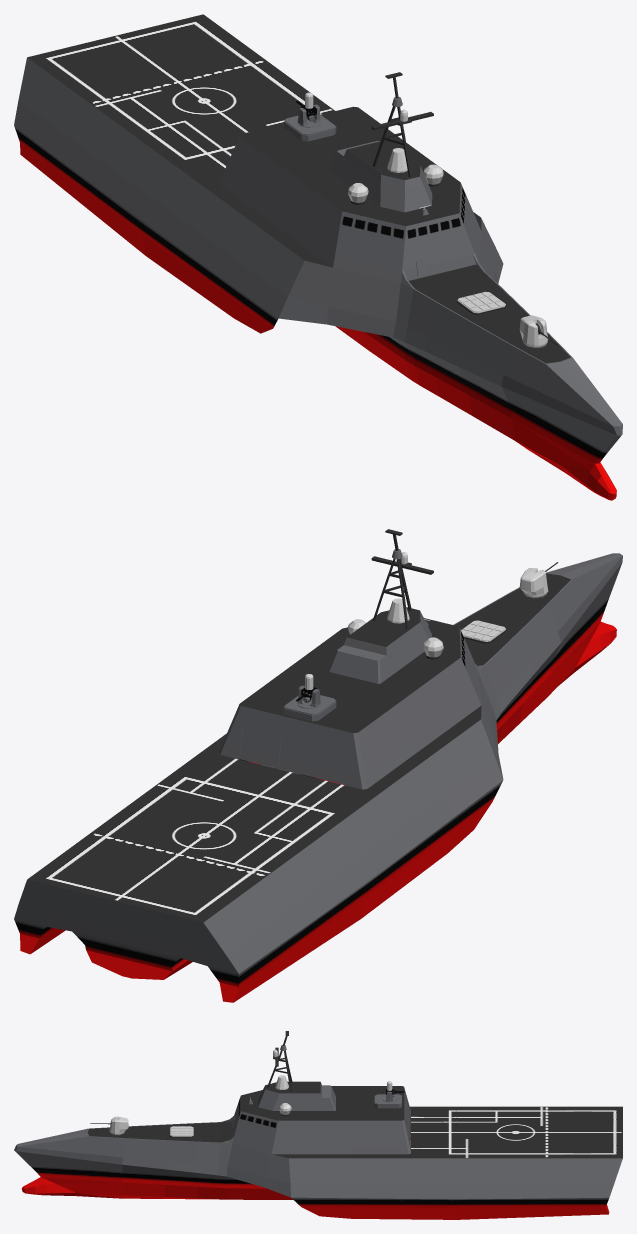
3 renders of one model, top to bottom at view 1: azimuth 30°, elevation 25°; view 2: azimuth 150°, elevation 25°; view 3: azimuth 270°, elevation 25°, orthographic. The views are drawn at different scales.
Parts seen in each view (by area): view 1: Cube.008, Circle.005; view 2: Cube.008, Cube.011, Cube.010, Circle.005; view 3: Cube.008, Circle.005.
Part boxes in pixels (x1,y1,x2,y2): Cube.008: (14,14,622,500); Circle.005: (519,315,548,346); Cube.008: (14,529,622,1002); Cube.011: (278,733,344,784); Cube.010: (239,723,278,767); Circle.005: (519,568,548,596); Cube.008: (14,1031,622,1219); Circle.005: (109,1116,128,1134).
Bounding box in the file's own units: 3246 × 3743 × 12534.
